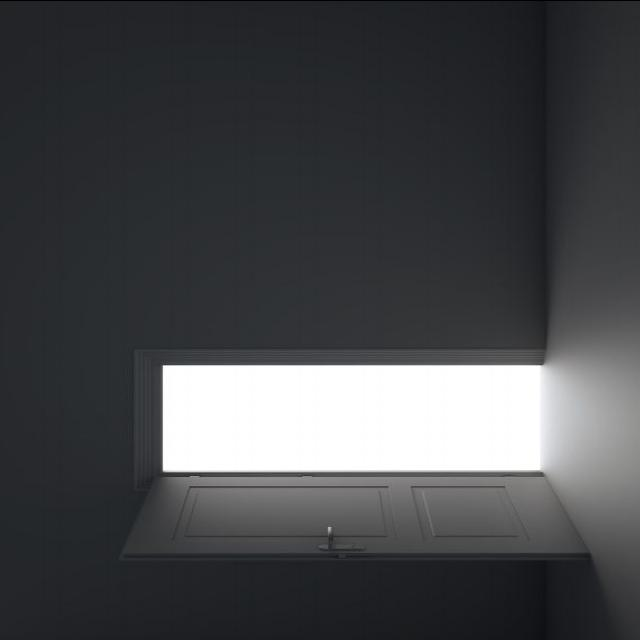open: (135, 350, 585, 564)
